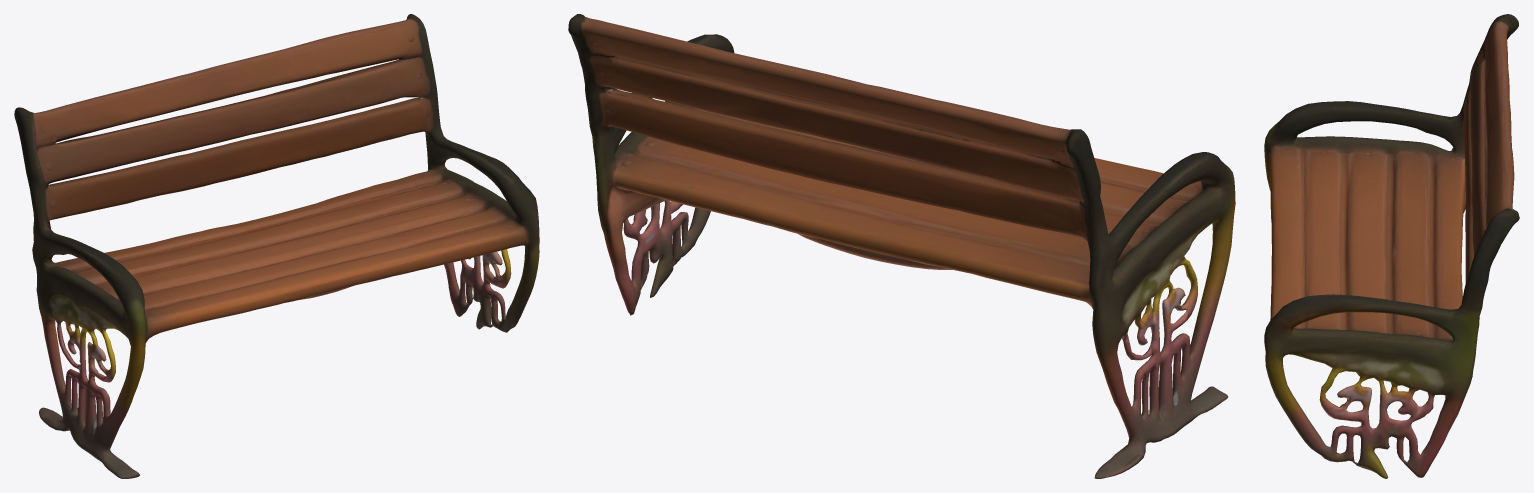
Rendered from bench.glb.
The picture shows the model from 3 angles, left to right: view 1: azimuth 30°, elevation 25°; view 2: azimuth 150°, elevation 25°; view 3: azimuth 270°, elevation 25°; orthographic projection. The views are drawn at different scales.
Parts seen in each view (by area): view 1: tripo_node_dd4cd8c3; view 2: tripo_node_dd4cd8c3; view 3: tripo_node_dd4cd8c3.
Part boxes in pixels (<box>): tripo_node_dd4cd8c3: <box>14,14,539,478</box>; tripo_node_dd4cd8c3: <box>568,14,1235,478</box>; tripo_node_dd4cd8c3: <box>1264,14,1519,478</box>.
Bounding box in the file's own units: 1 × 0.6635 × 0.5345.
1 material, 1 textured.
